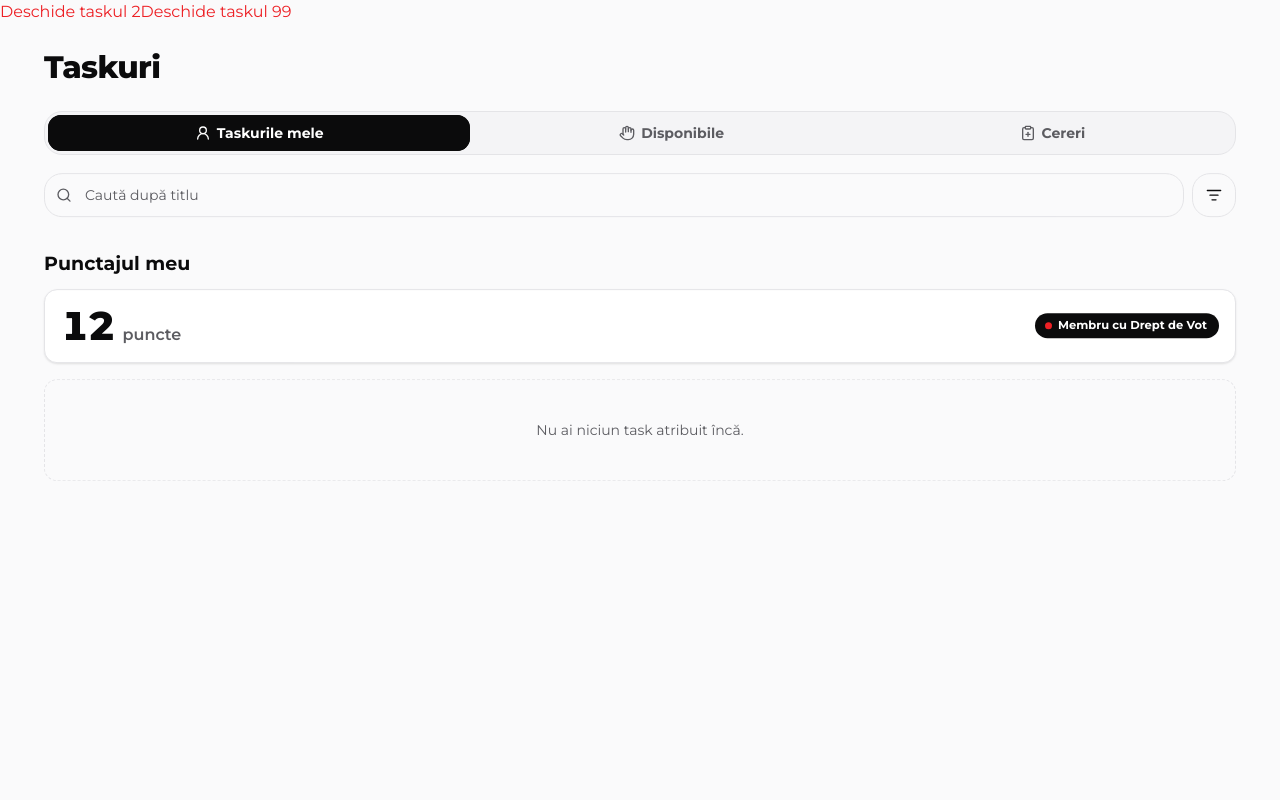
Scenario: My tasks screen › Disponibile (ruling R26) › says so when nothing is open for the Member
Click the tab "Disponibile". click: (672, 133)
box: left=472, top=115, right=871, bottom=151
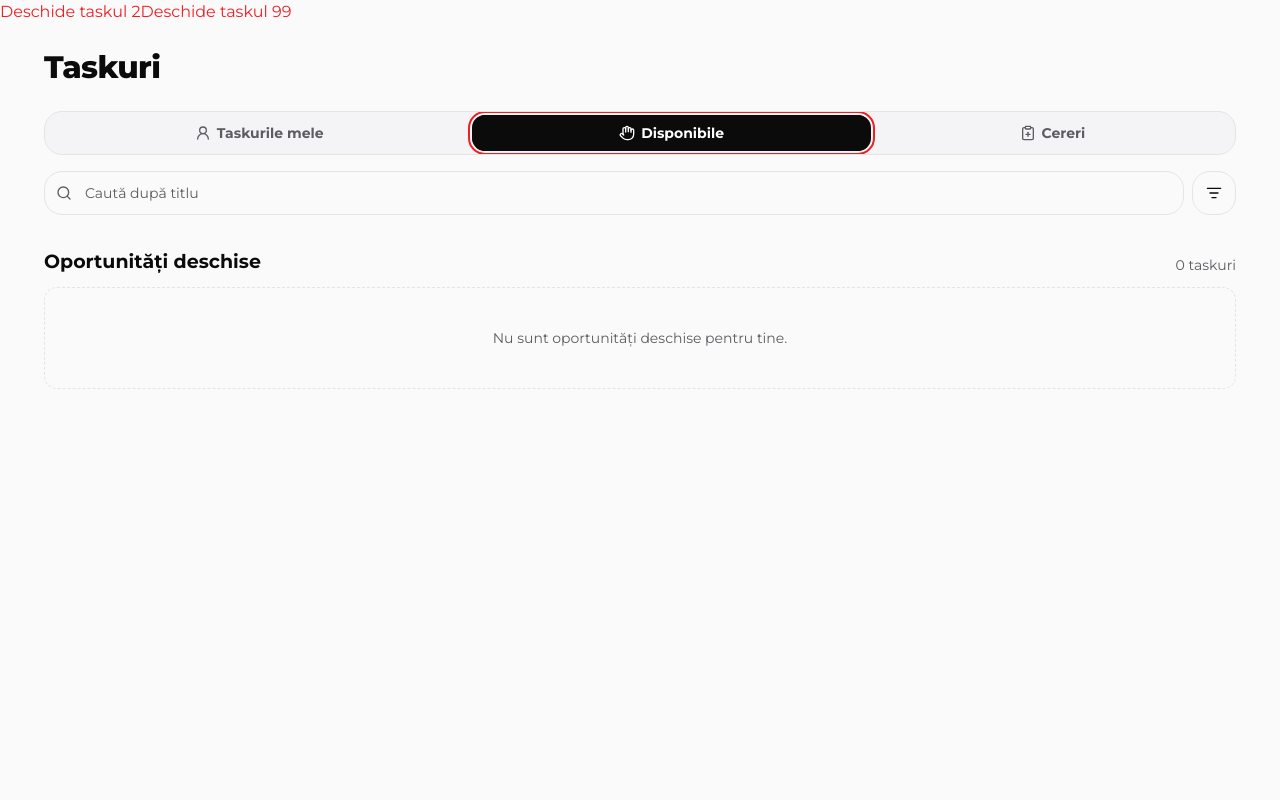
Now the text "Nu sunt oportunități deschise pentru tine." is shown, box left=493, top=328, right=787, bottom=348
